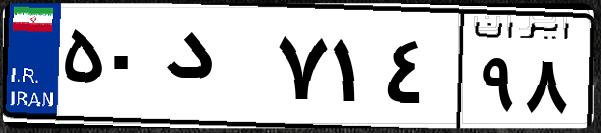0: (110, 28, 158, 98)
1: (330, 28, 385, 110)
4: (385, 28, 445, 110)
5: (57, 26, 110, 100)
7: (270, 28, 330, 110)
8: (525, 38, 570, 115)
9: (475, 38, 525, 113)
د: (158, 20, 270, 120)
